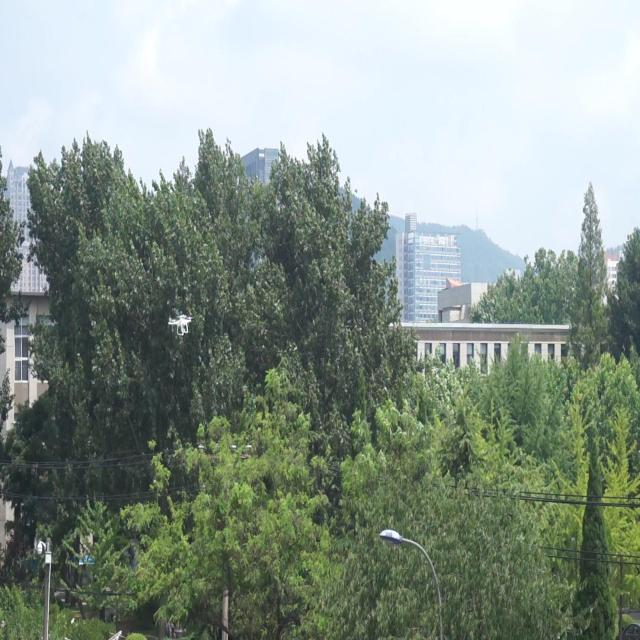drone: (167, 312, 197, 339)
